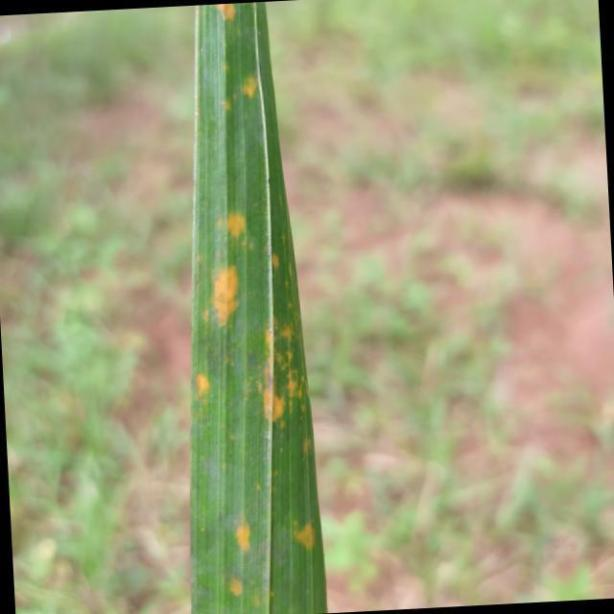Kalium: (189, 0, 328, 614)
